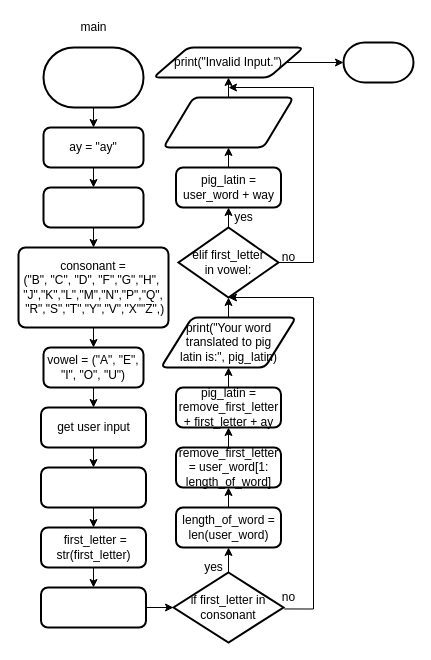
This 431x660 diagram has some shape labels left out. Here are the shapes that lost their labels. From the top down, the centre of each, then its label:
(93,77): start
(378,62): stop
(228,122): print("The word in Pig Latin is:", pig_latin)
(93,207): way = "way"
(93,487): first_letter = user_word[0]
(93,607): first_letter = first_letter.upper()
